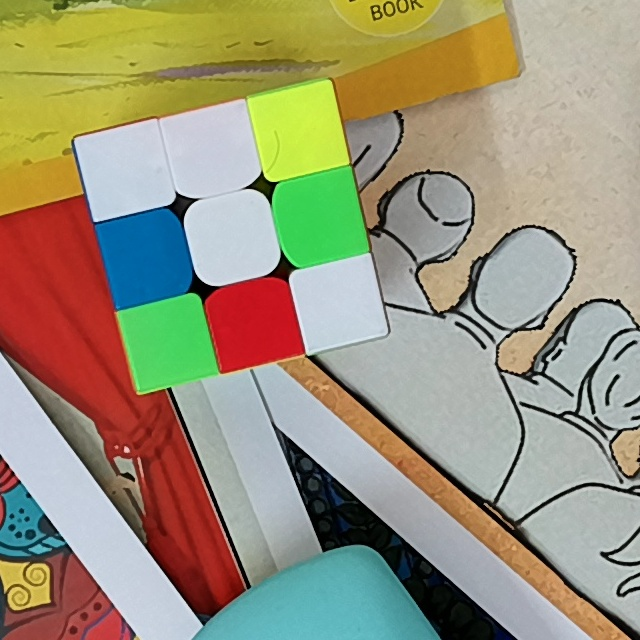tile: (263, 96, 335, 165), (193, 205, 269, 270), (288, 182, 356, 253), (108, 222, 181, 288), (218, 291, 288, 356), (90, 138, 160, 202), (180, 116, 247, 181), (134, 311, 201, 373), (305, 273, 373, 332)
